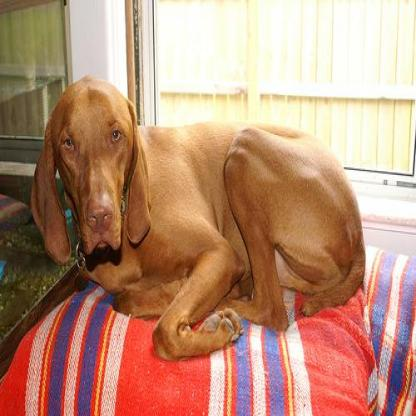vizsla: (30, 71, 365, 364)
